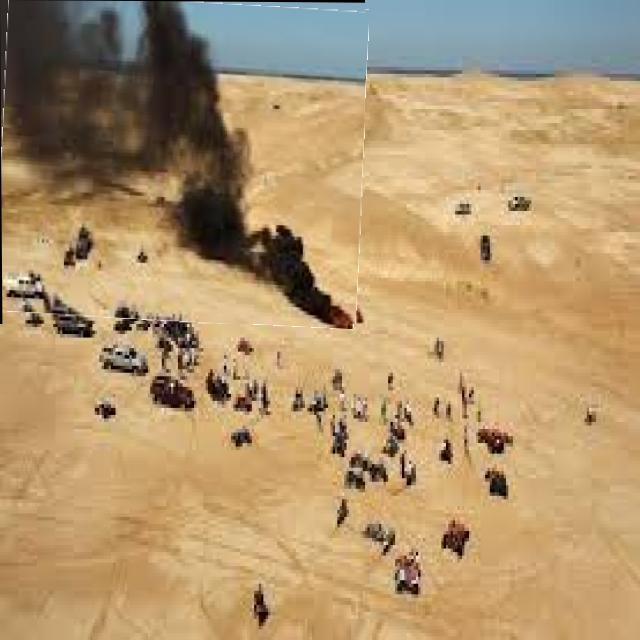smoke: (12, 3, 248, 191), (166, 193, 340, 320)
